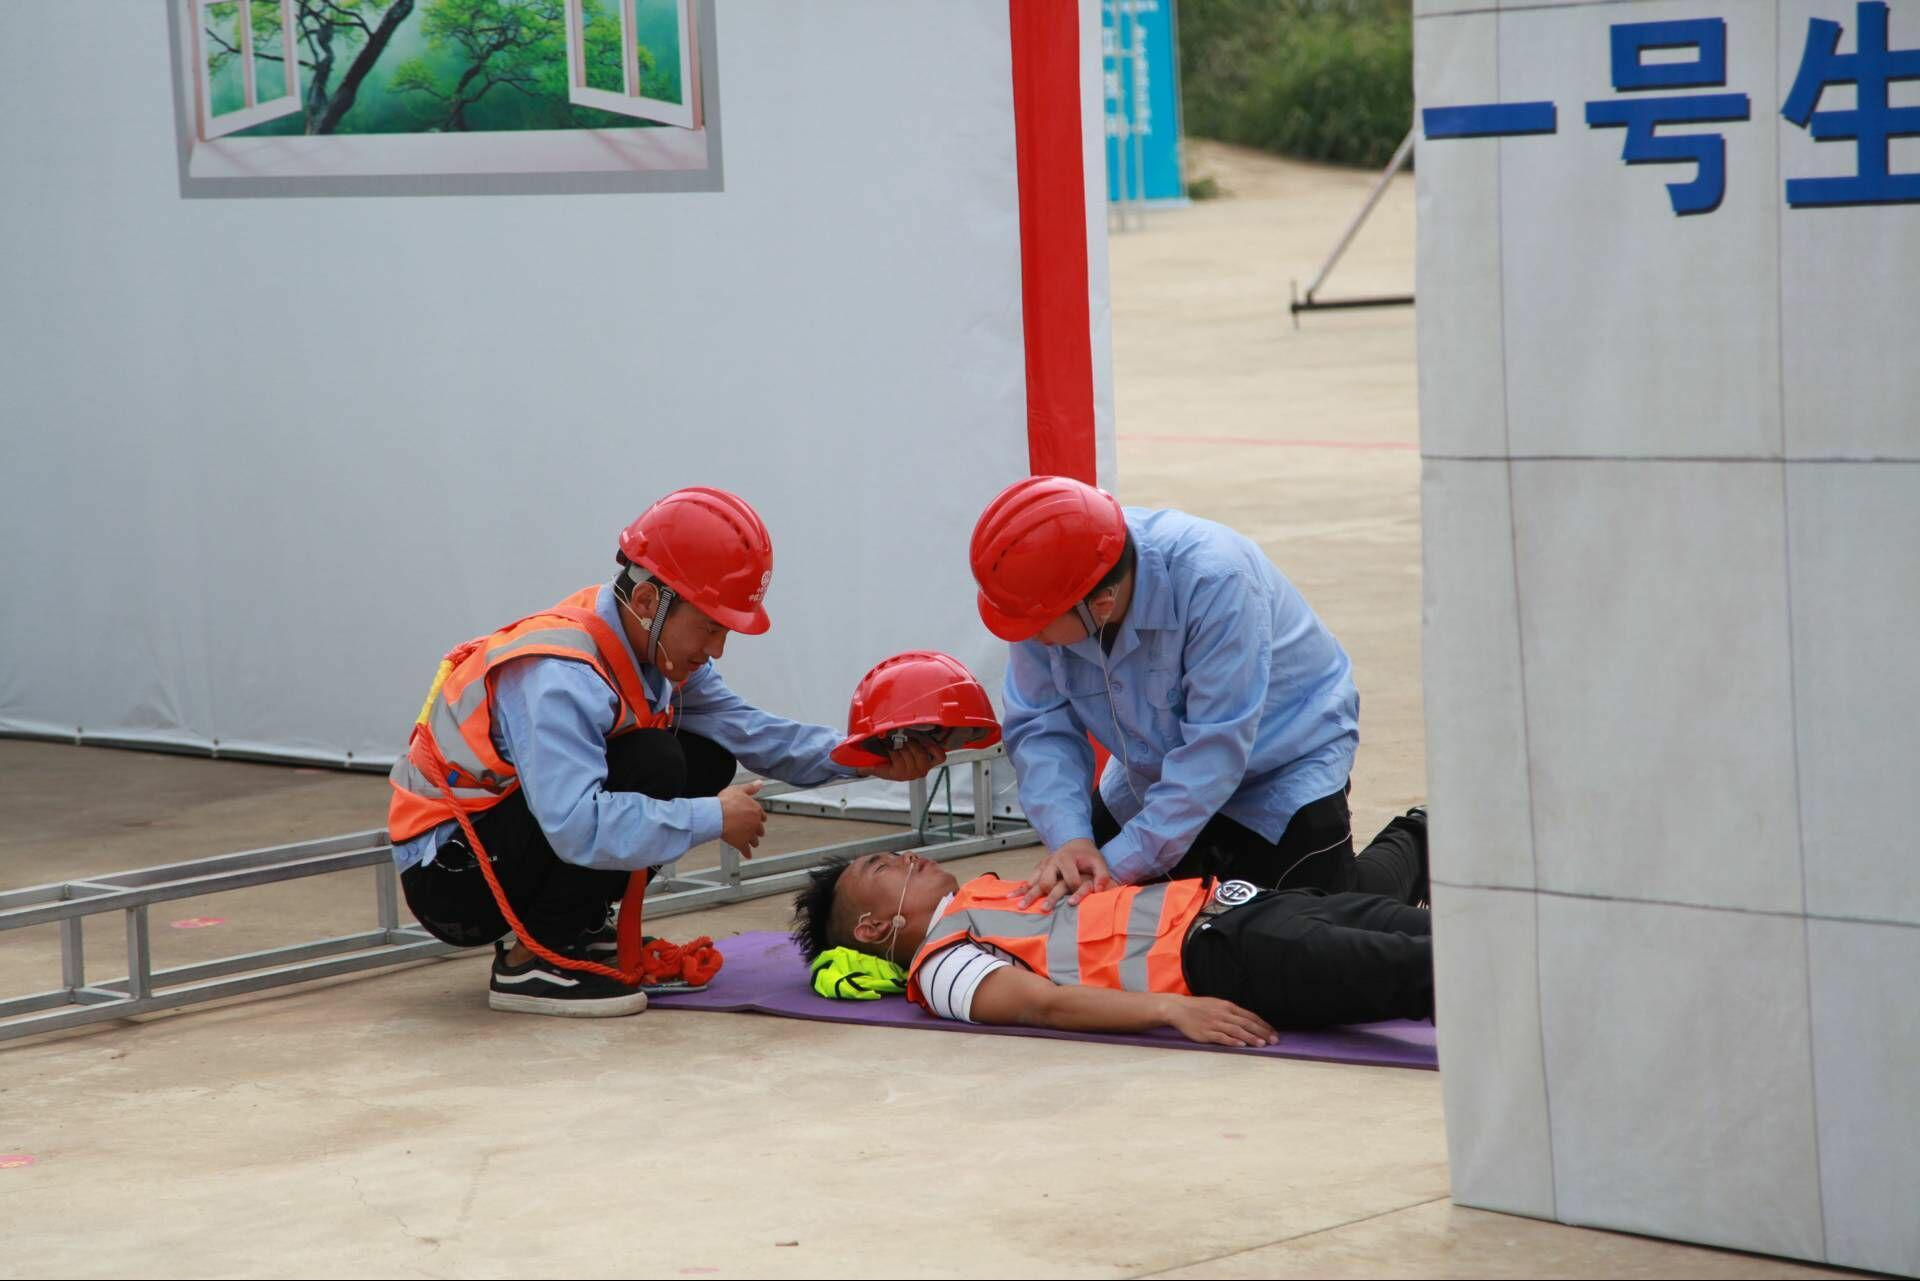helmet: (969, 472, 1128, 645), (619, 485, 776, 638), (826, 649, 1006, 778)
